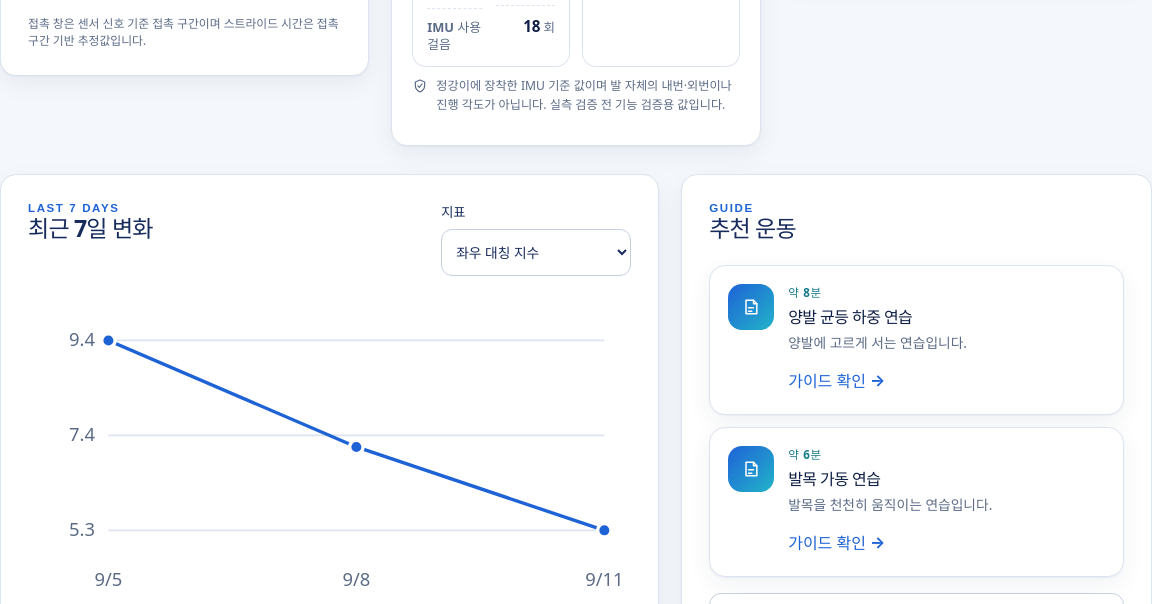
Test: DashboardPage › 추세 지표를 바꾸면 차트 요약·단위가 바뀌고 x축 라벨은 날짜다
(page scrolled)
Expected: the picture named "최근 7일 완료 측정 3회의 좌우 대칭 지수" is shown, x1=28 y1=298 x2=631 y2=600
Select "스트라이드 시간(추정)" in the dropdown labelled "지표" at (536, 253), box x1=441 y1=229 x2=631 y2=276
(page scrolled)
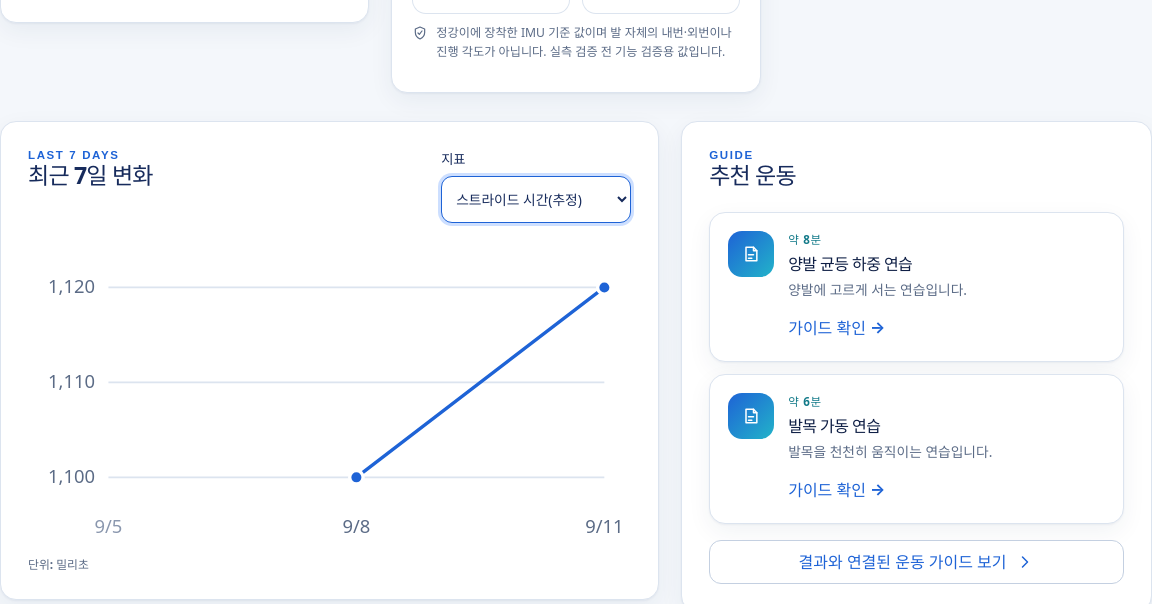
Now the picture named "최근 7일 완료 측정 3회의 스트라이드 시간(추정)" is shown, box x1=28 y1=245 x2=631 y2=547
Now the text "단위: 밀리초" is shown, box x1=28 y1=556 x2=89 y2=572
